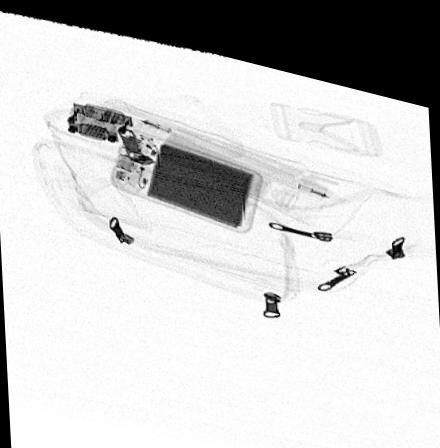Powerbank: (109, 121, 265, 220)
